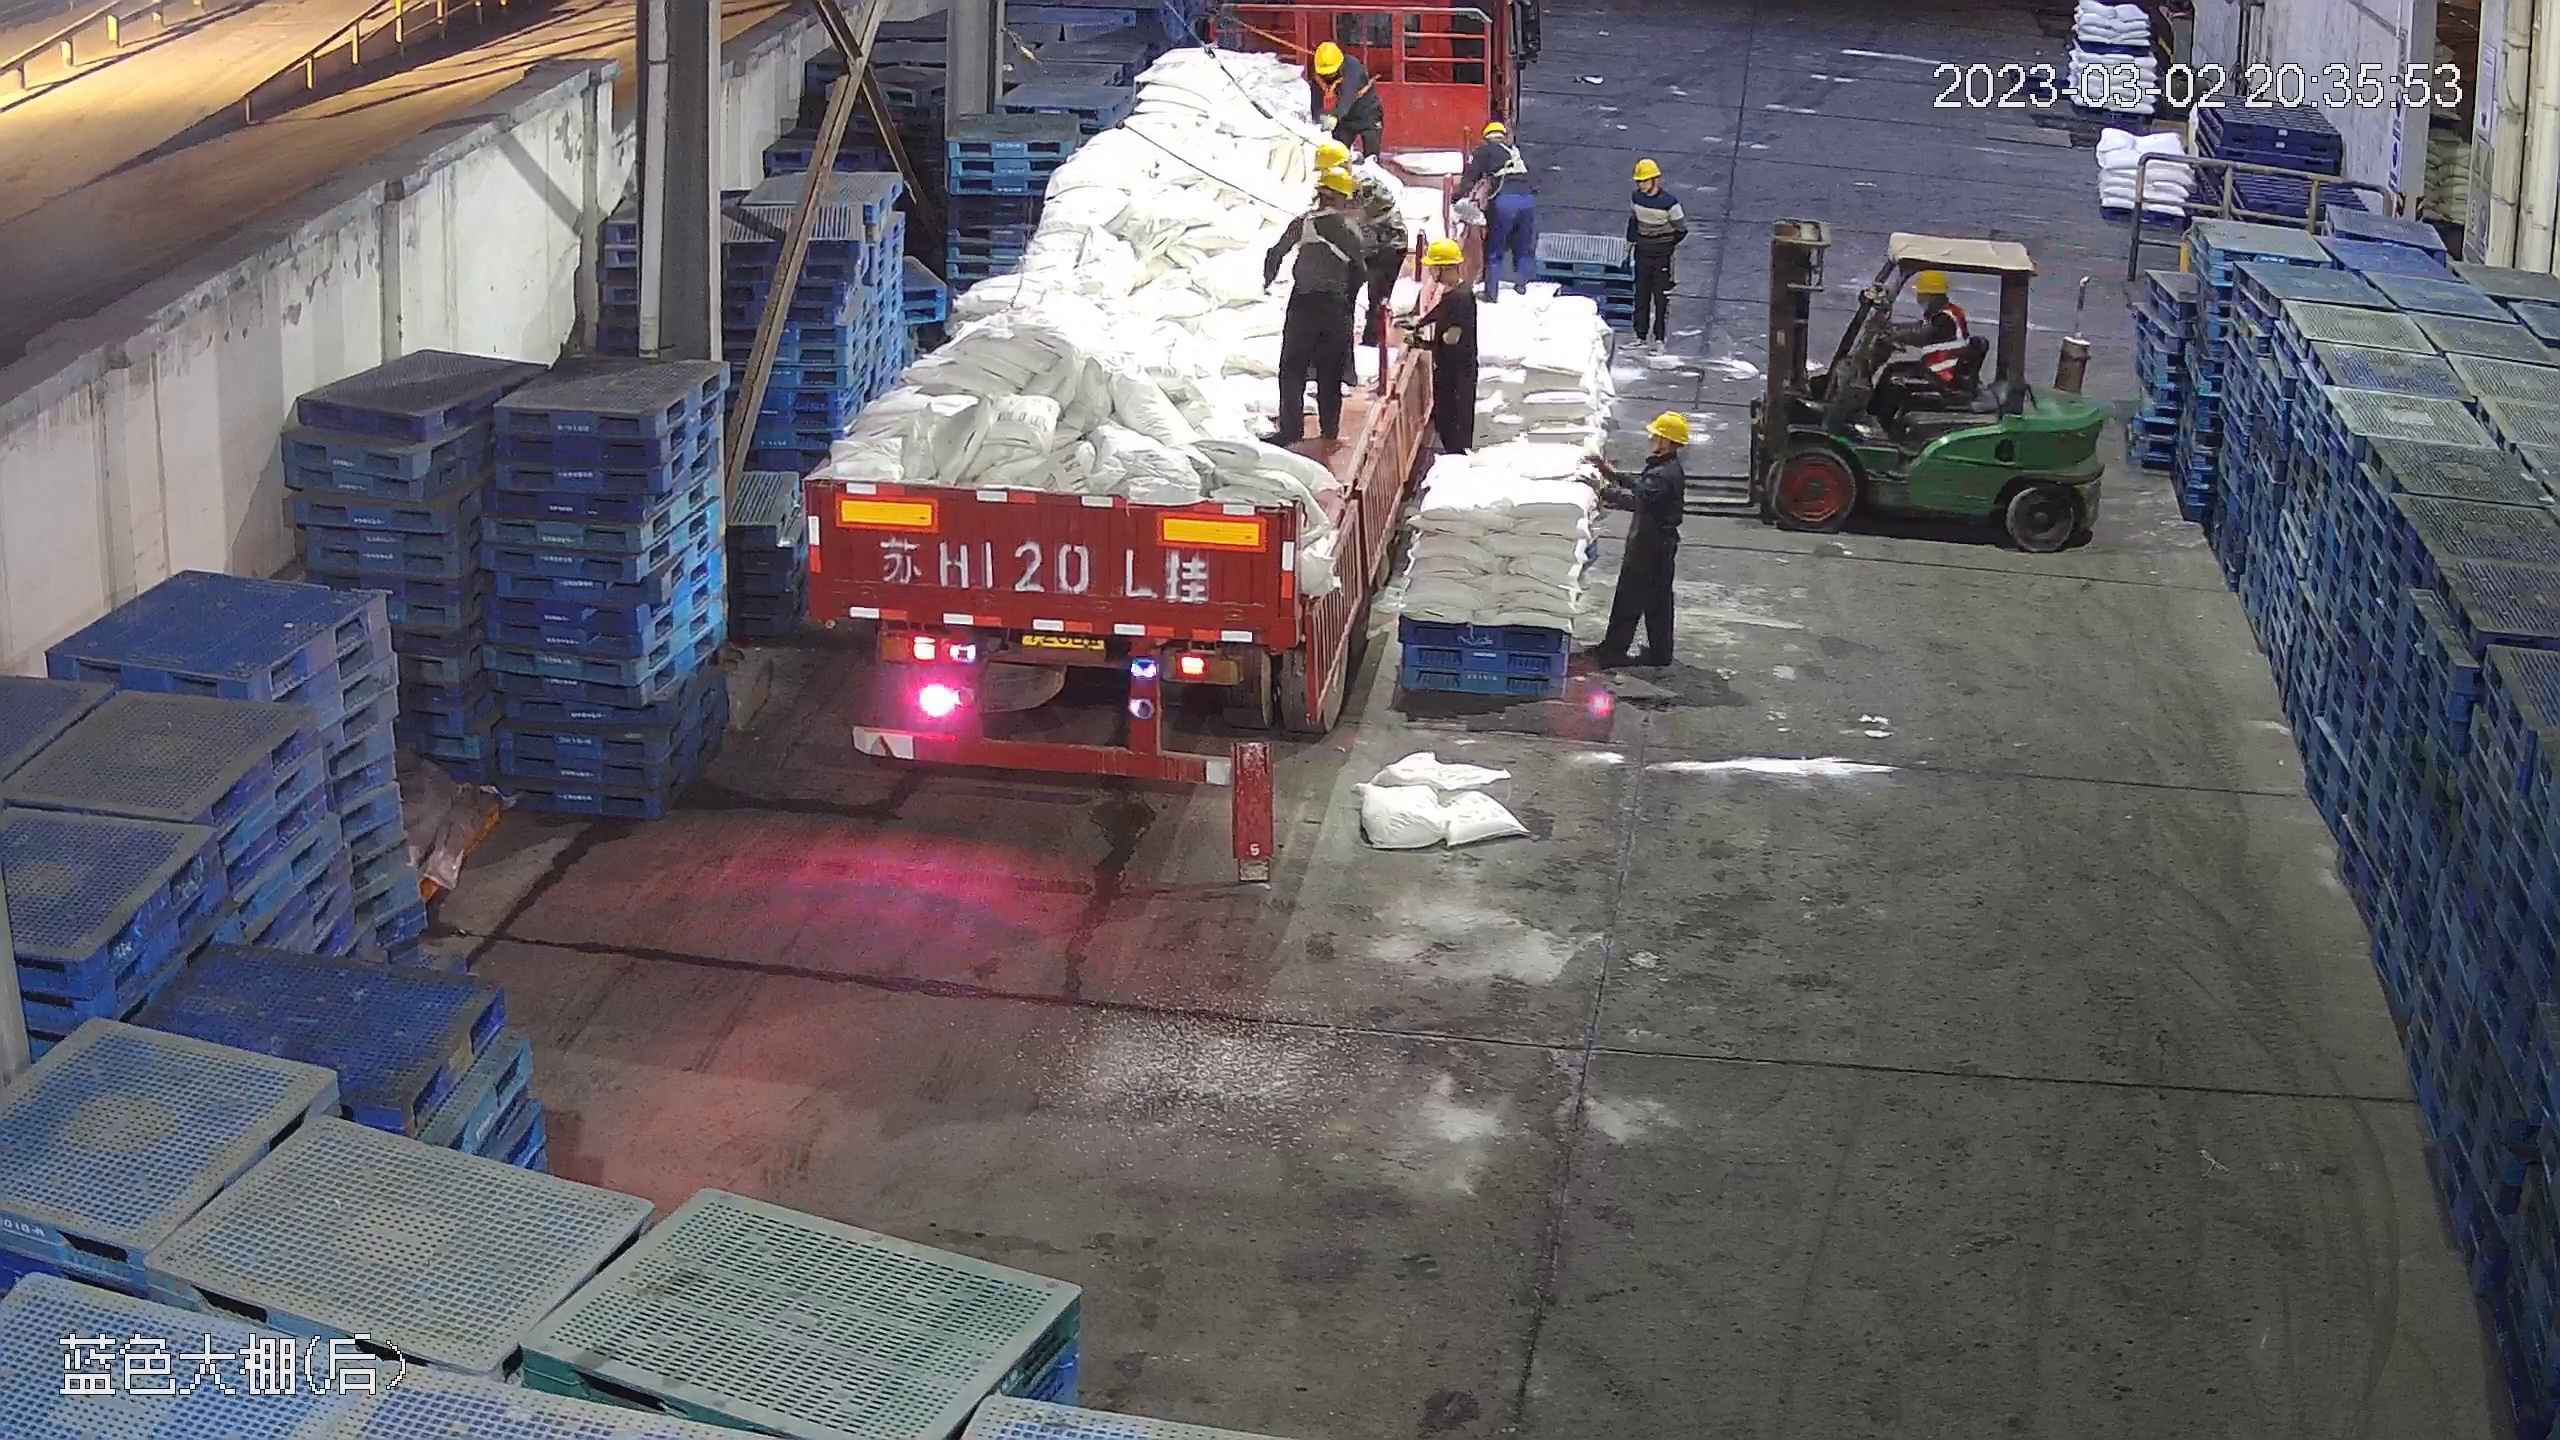belt: (1282, 197, 1358, 272), (1487, 138, 1528, 180), (1315, 72, 1345, 102), (1369, 203, 1405, 227)
head: (1280, 150, 1375, 242), (1626, 410, 1692, 504), (1413, 235, 1477, 323), (1307, 41, 1378, 103), (1909, 268, 1964, 337), (1464, 117, 1527, 180), (1628, 158, 1683, 220)
helmet: (1312, 144, 1358, 188), (1419, 236, 1466, 267), (1645, 411, 1693, 443), (1311, 40, 1345, 77), (1912, 268, 1949, 293), (1478, 115, 1510, 138), (1632, 159, 1659, 181)
people: (1261, 150, 1383, 455), (1592, 410, 1689, 671), (1396, 235, 1479, 471), (1863, 268, 1974, 425), (1455, 117, 1536, 309), (1623, 157, 1686, 351), (1309, 42, 1384, 154)
truck: (791, 13, 1490, 780)
